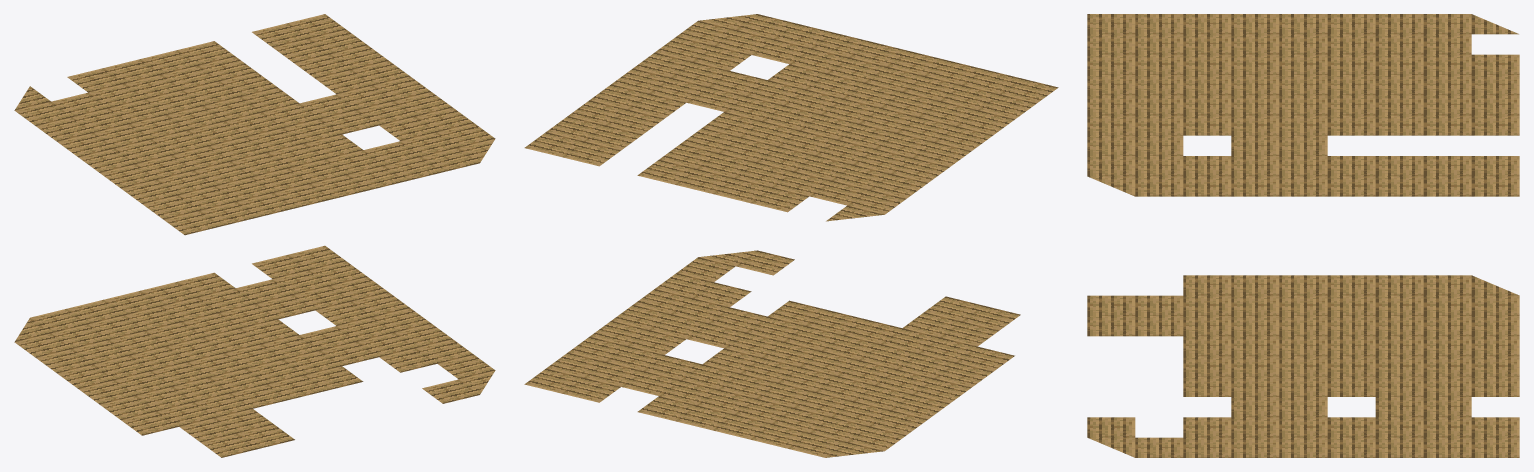
The model's file is Oak_Planks_Chunk_32_1.fbx.
3 renders of one model, left to right at view 1: azimuth 30°, elevation 25°; view 2: azimuth 150°, elevation 25°; view 3: azimuth 270°, elevation 25°, orthographic. The views are drawn at different scales.
Visible parts, largest first — view 1: Oak_Planks_Chunk_32_1; view 2: Oak_Planks_Chunk_32_1; view 3: Oak_Planks_Chunk_32_1.
Boxes of the visible parts, x1,y1,x2,y2 form: Oak_Planks_Chunk_32_1: [14, 14, 495, 457]; Oak_Planks_Chunk_32_1: [524, 14, 1058, 457]; Oak_Planks_Chunk_32_1: [1087, 14, 1519, 457].
Bounding box in the file's own units: 900 × 600 × 900.
1 material, 1 textured.
